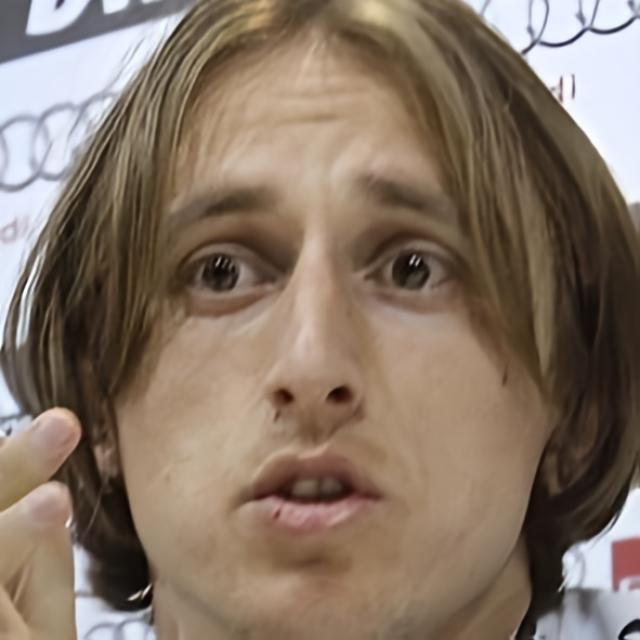fear: (116, 30, 558, 640)
